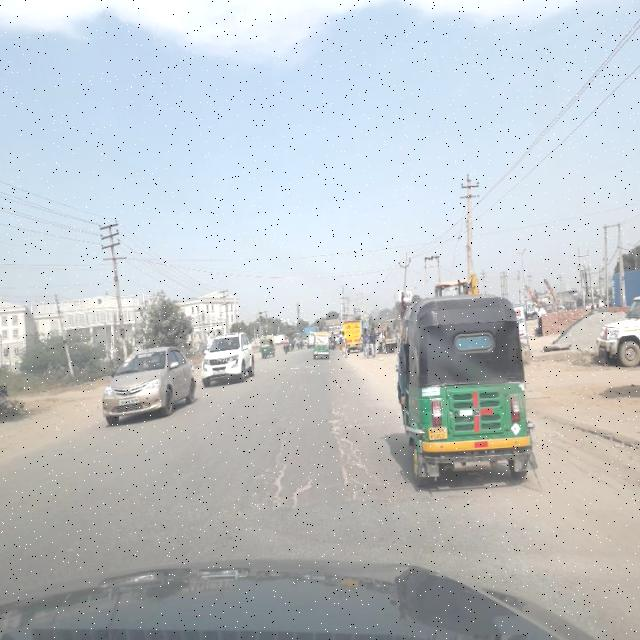D00: (259, 424, 310, 507)
D20: (330, 402, 388, 500)
D40: (259, 432, 310, 508)
